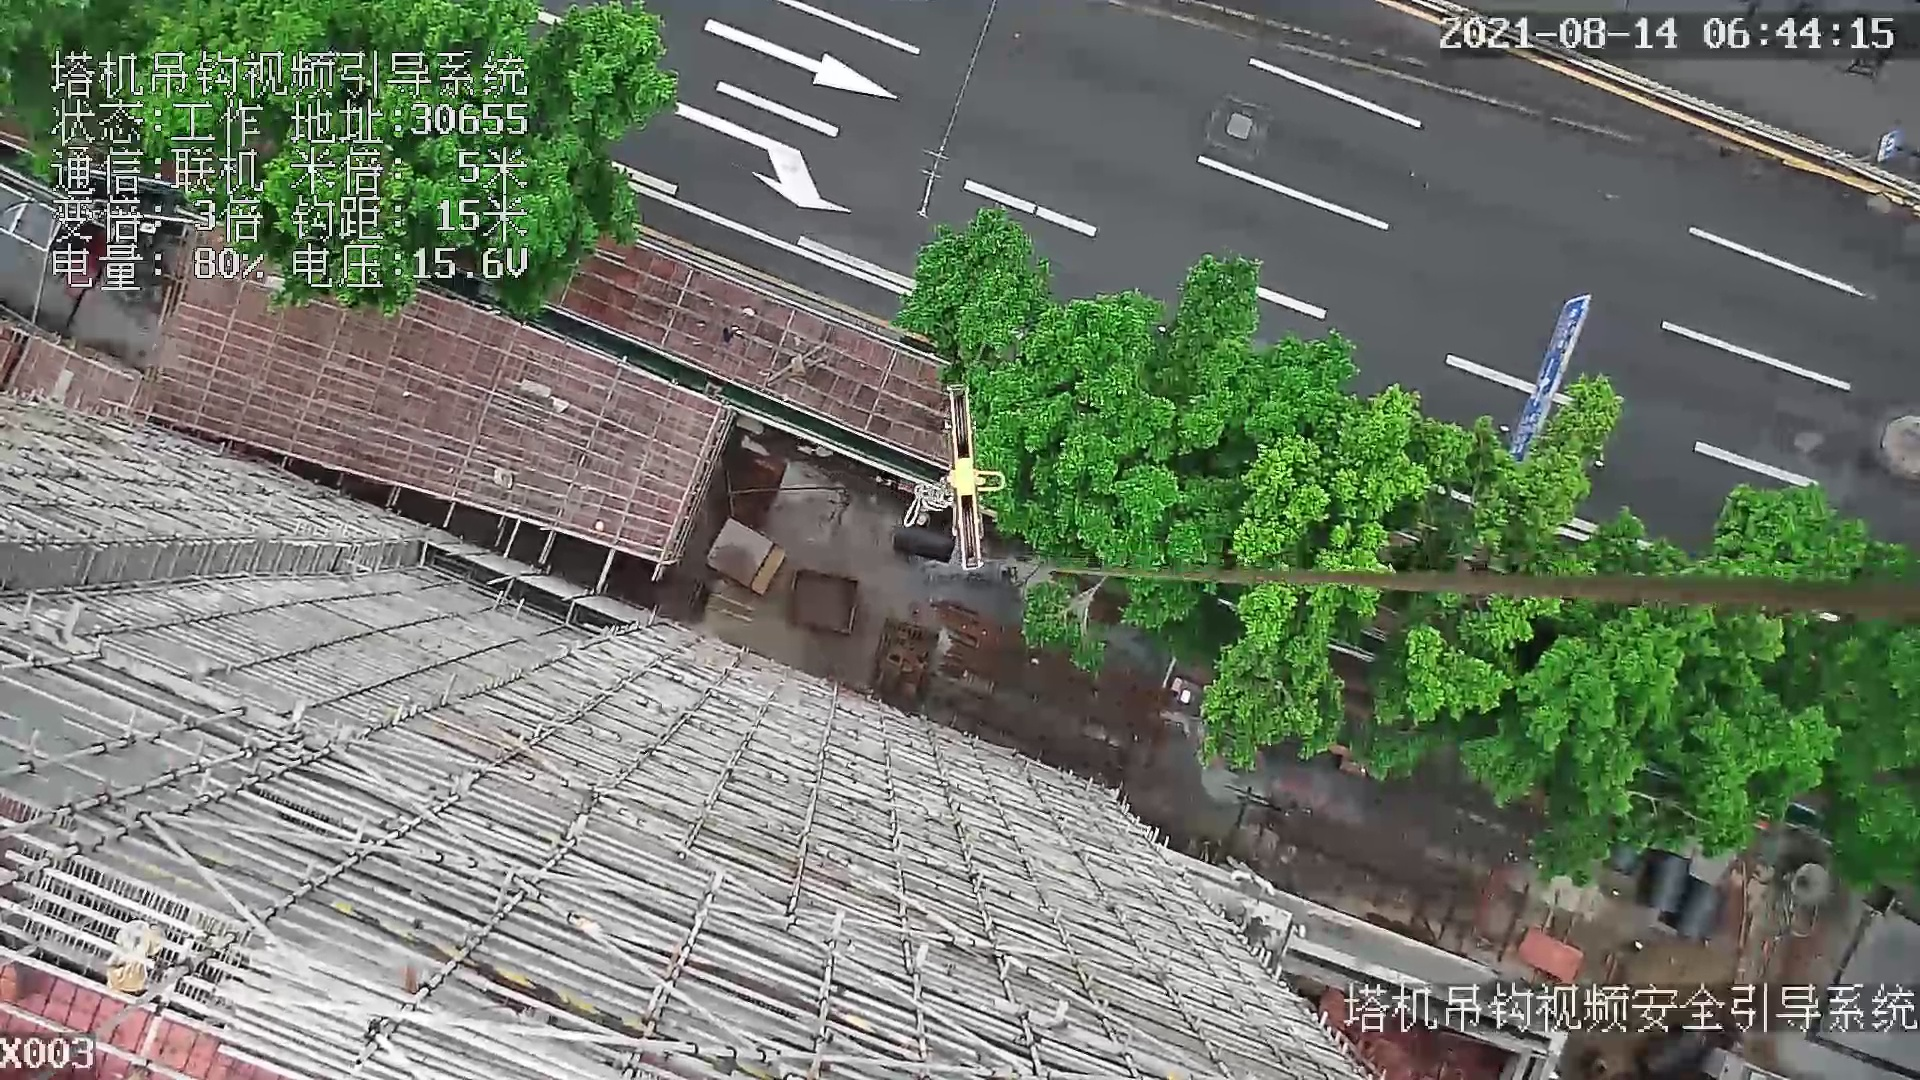hook: (920, 382, 1004, 572)
